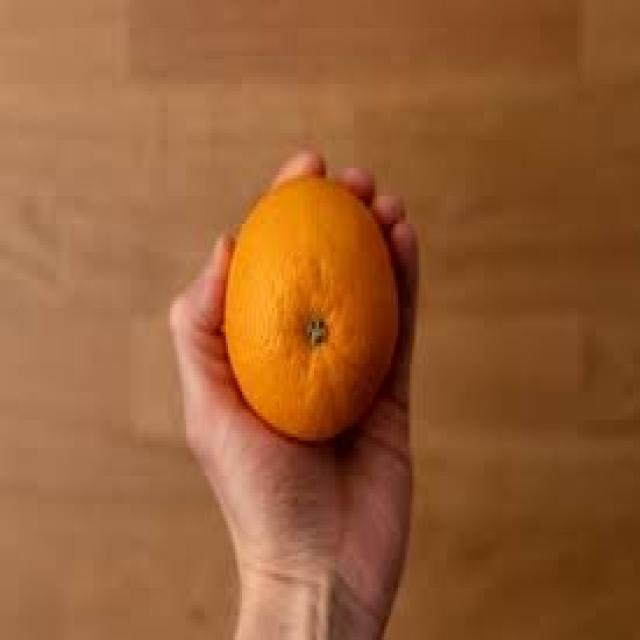Orange: (222, 175, 402, 444)
